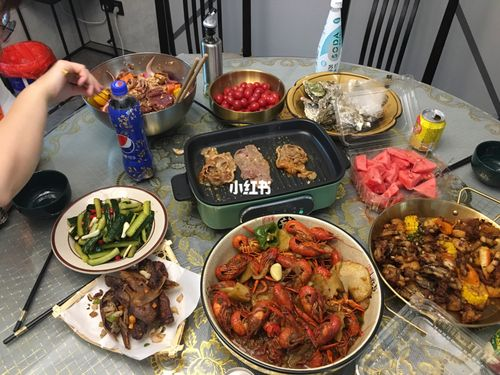food: (198, 198, 377, 370), (370, 187, 498, 326), (188, 114, 342, 211), (65, 253, 194, 359), (52, 179, 169, 272), (82, 46, 204, 131), (287, 67, 403, 133), (208, 64, 289, 124)
